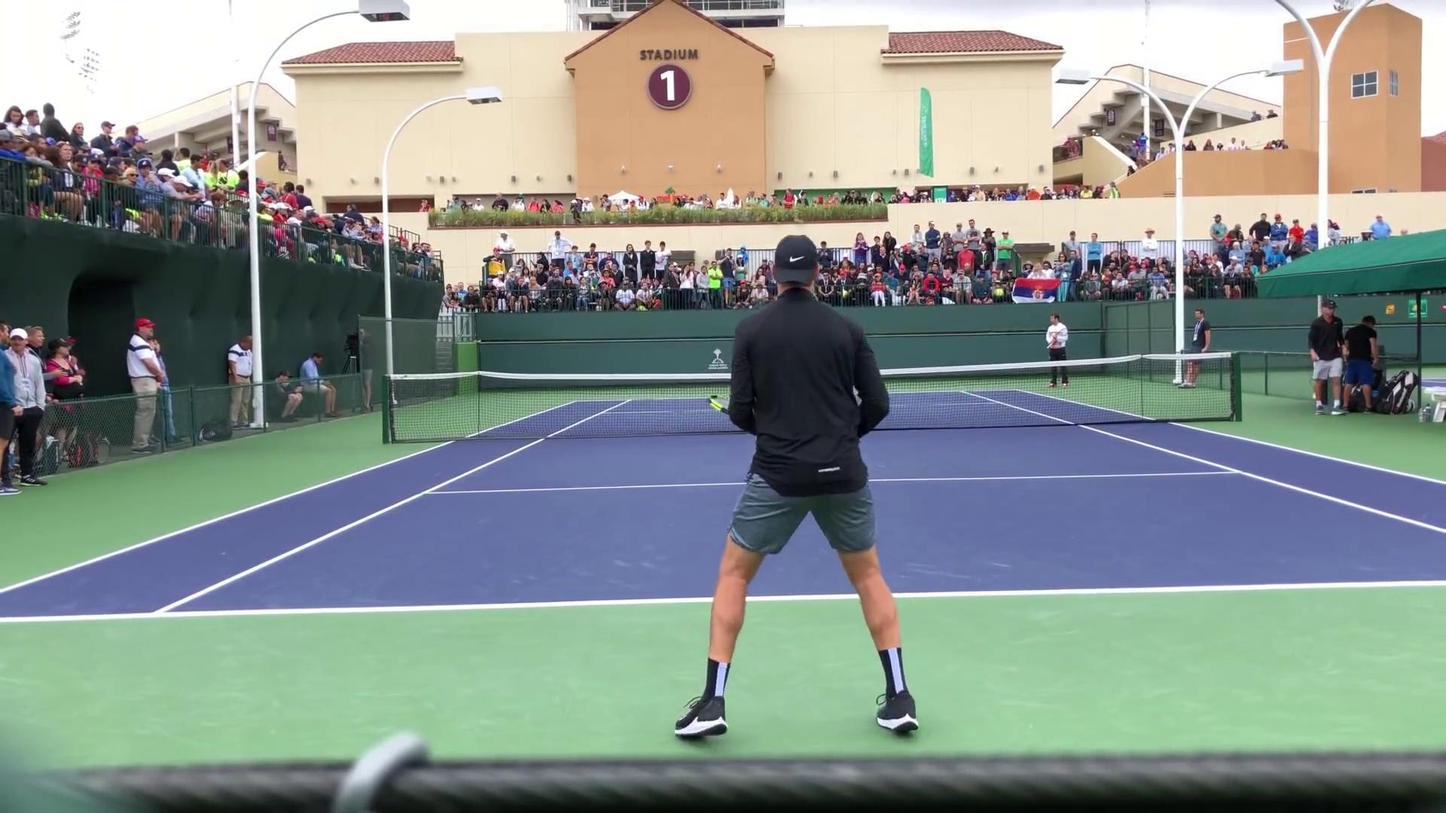ball: (1330, 407, 1336, 416)
